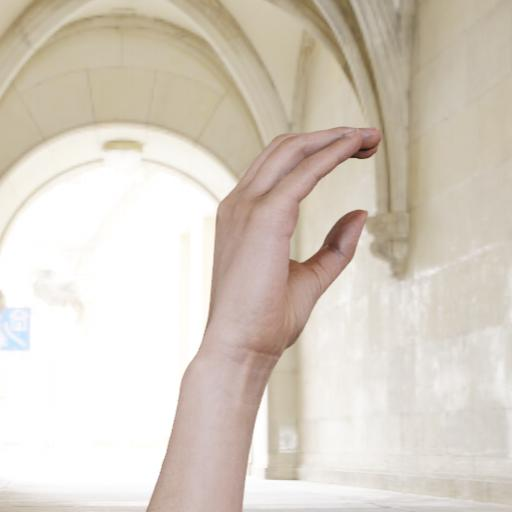C: (196, 114, 382, 389)
